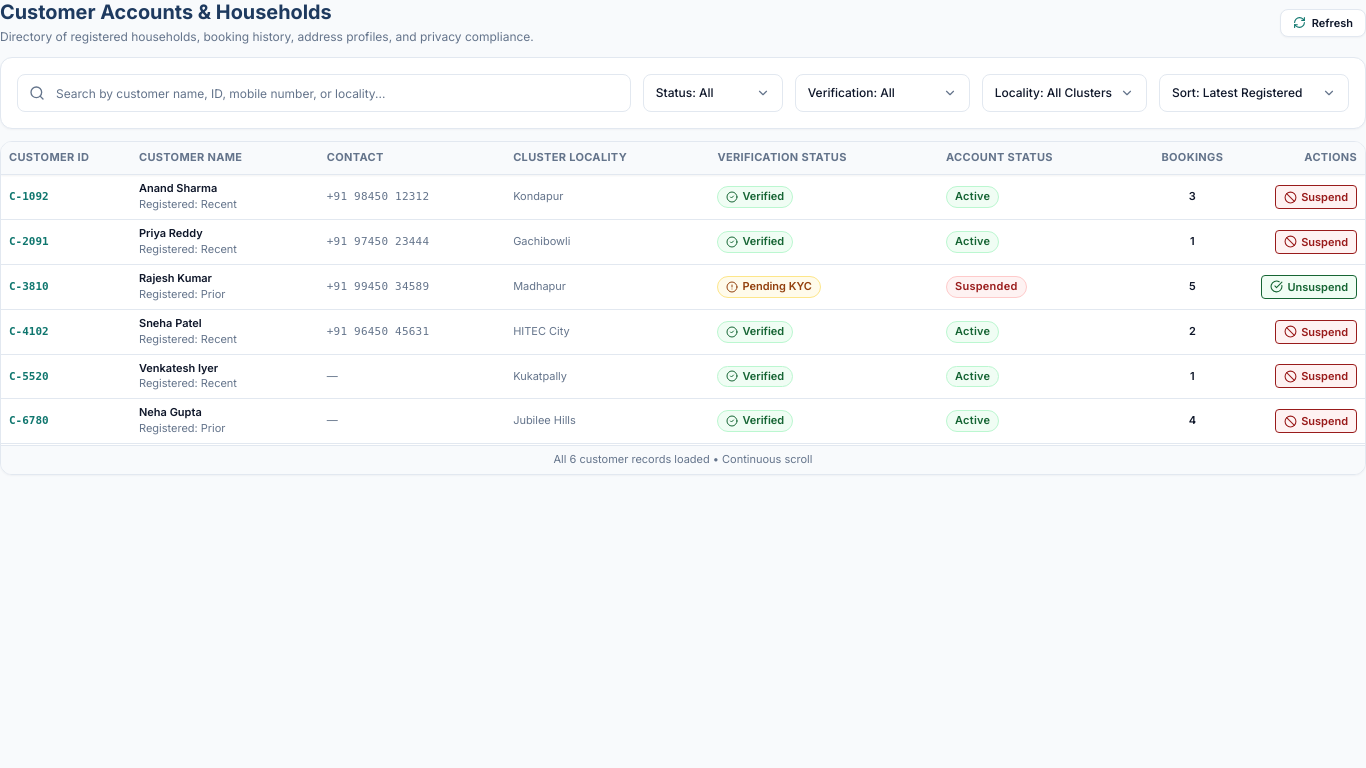
Test case: Portal-wide Clickable Table Rows Verification › verifies clickable rows in Customer Management page
The image size is (1366, 768).
Expected: the heading "Customer Accounts & Households" is shown, x1=0 y1=0 x2=332 y2=24
# Click row and confirm customer detail modal opens
Step 1. Click the button with aria-label "View profile for Anand Sharma (C-1092)" → (683, 198), box x1=1 y1=175 x2=1365 y2=220
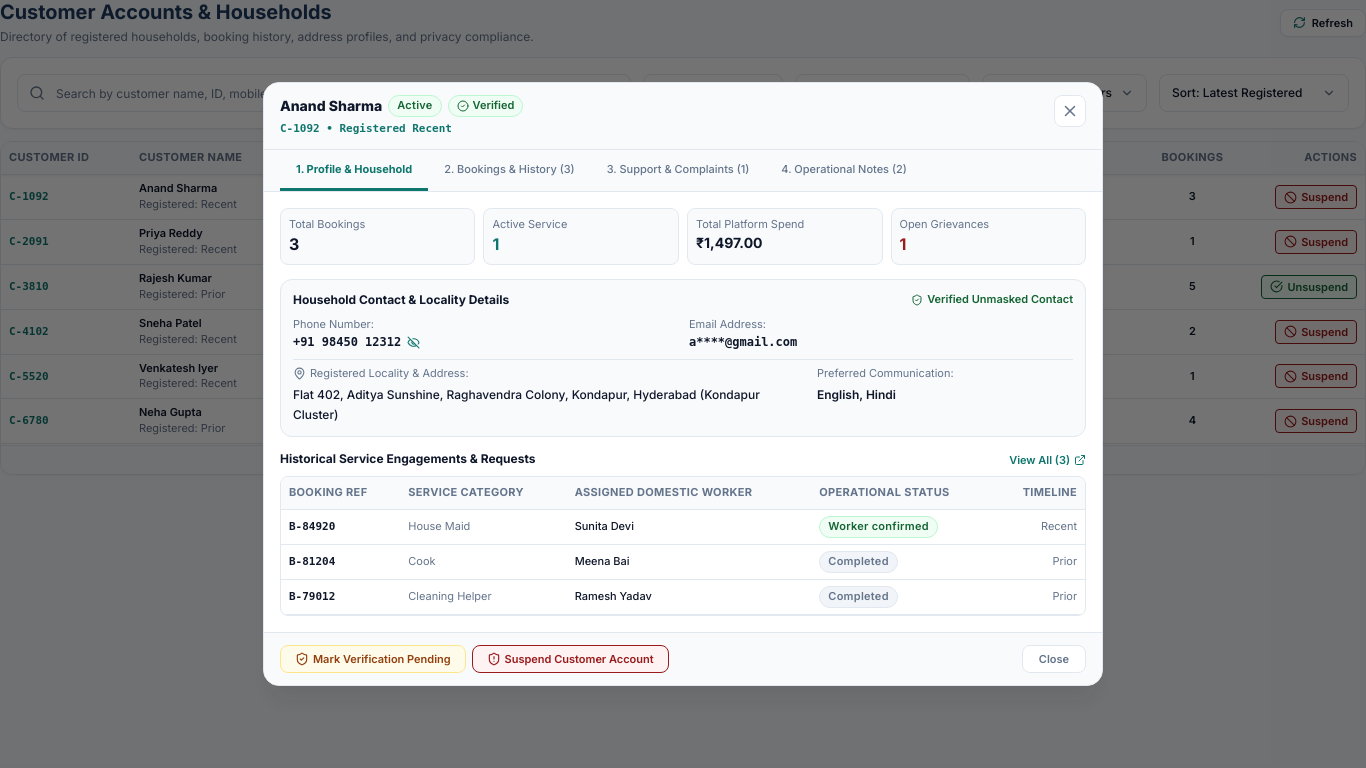
Now the button "1. Profile & Household" is shown, box x1=280 y1=150 x2=428 y2=191
